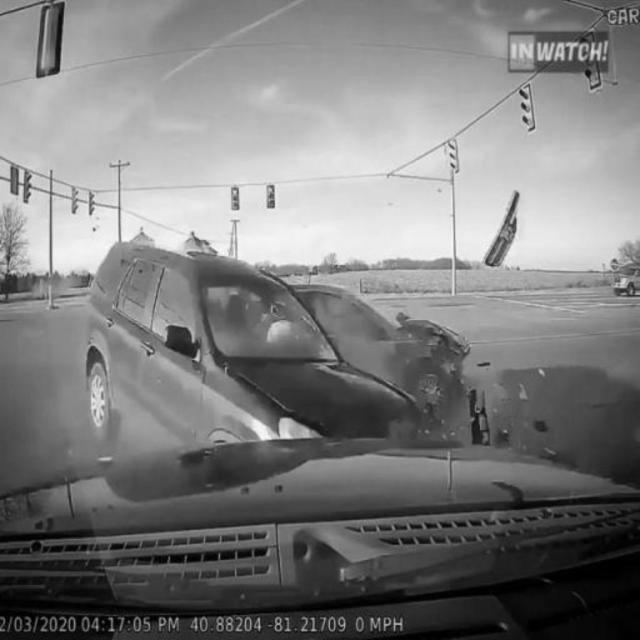accident: (80, 238, 492, 462)
